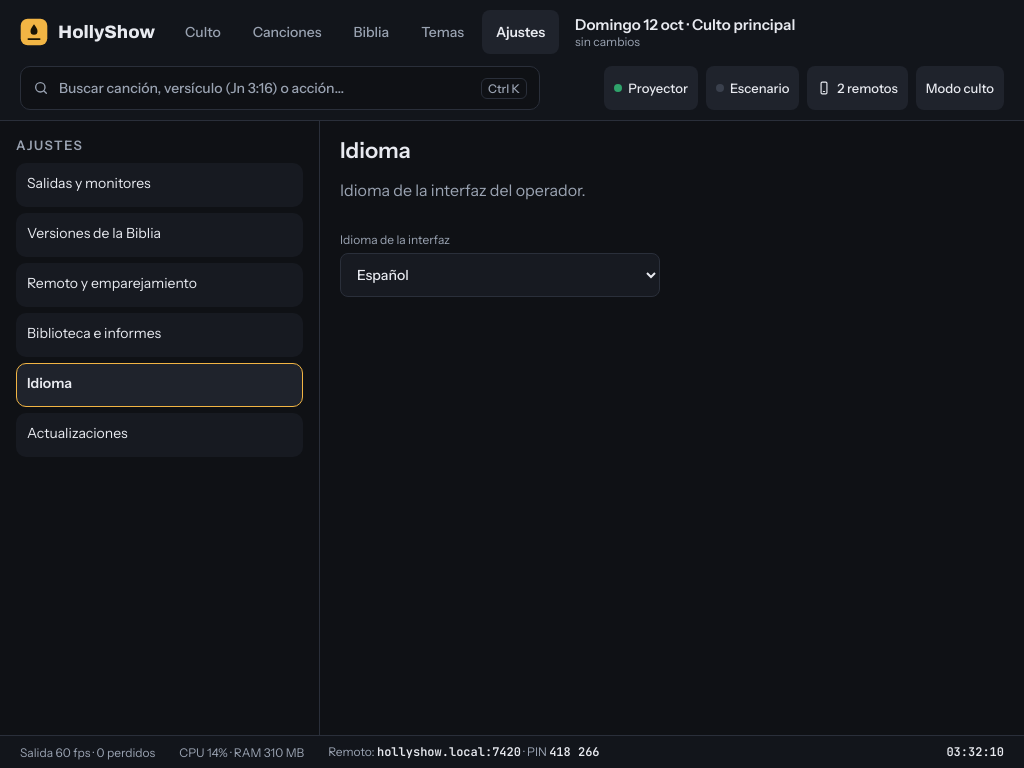
Test: settings › switches the interface language to English
The image size is (1024, 768).
Select "English" in the dropdown labelled "Idioma de la interfaz" at (500, 275), box x1=340 y1=253 x2=660 y2=297
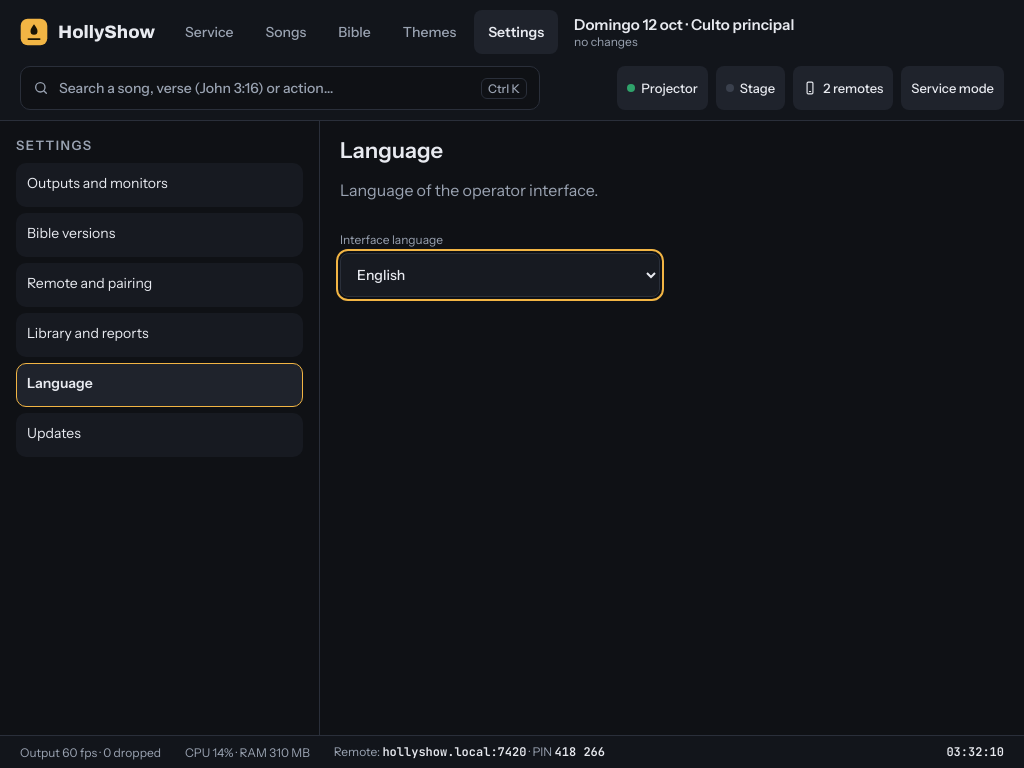
expect the heading "Language" is shown: met, box x1=340 y1=137 x2=443 y2=164
